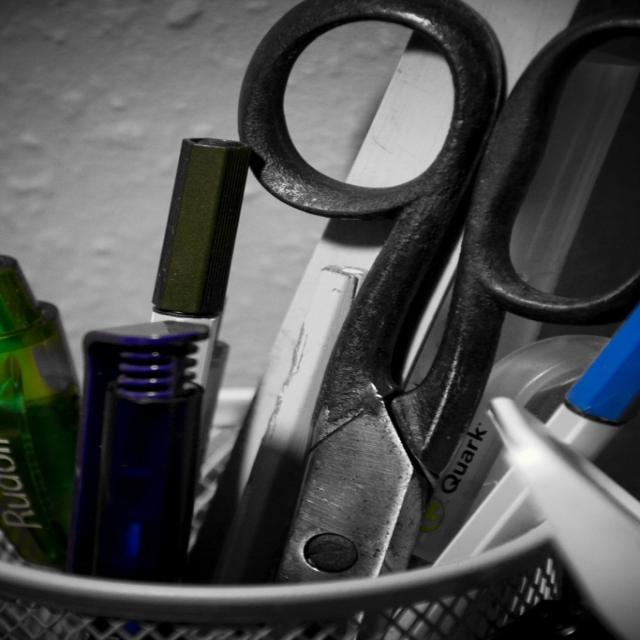scissors: (223, 0, 640, 596)
